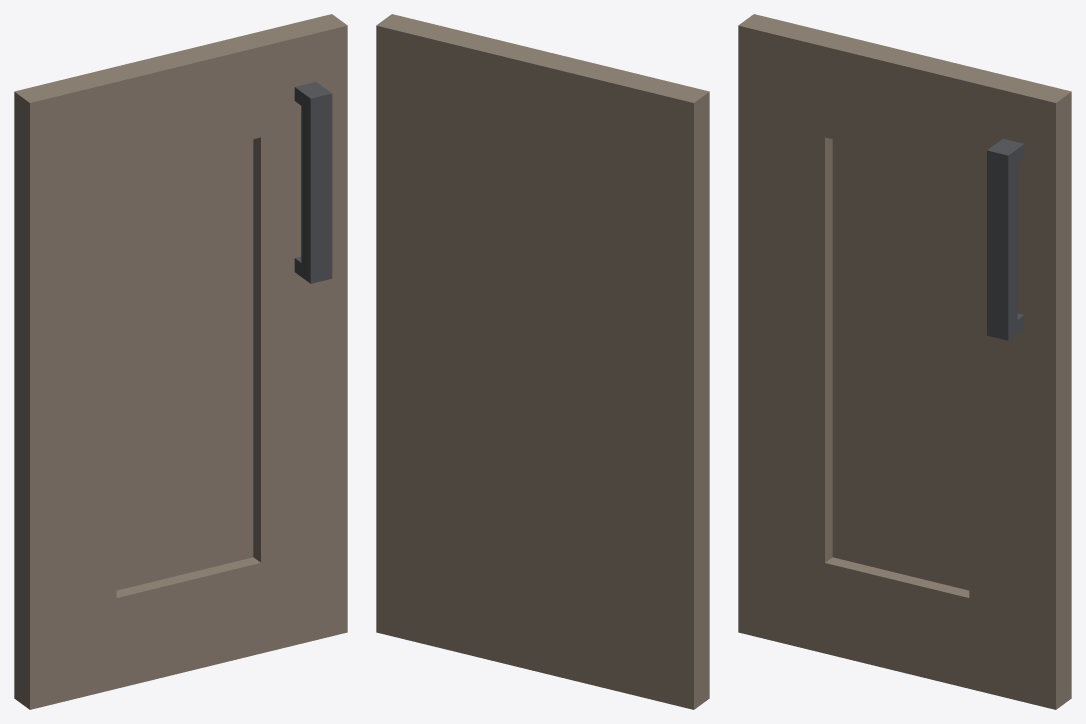
The model's file is Door2_C5_10.fbx.
3 renders of one model, left to right at view 1: azimuth 30°, elevation 25°; view 2: azimuth 150°, elevation 25°; view 3: azimuth 330°, elevation 25°, orthographic.
Parts seen in each view (by area): view 1: Door2_C5_10; view 2: Door2_C5_10; view 3: Door2_C5_10.
Part boxes in pixels (box(x1,y1,x2,y2)): Door2_C5_10: box(14, 14, 347, 709); Door2_C5_10: box(376, 14, 709, 709); Door2_C5_10: box(738, 14, 1071, 709).
Size of the model in its own units: 29 by 52.92 by 5.03.
